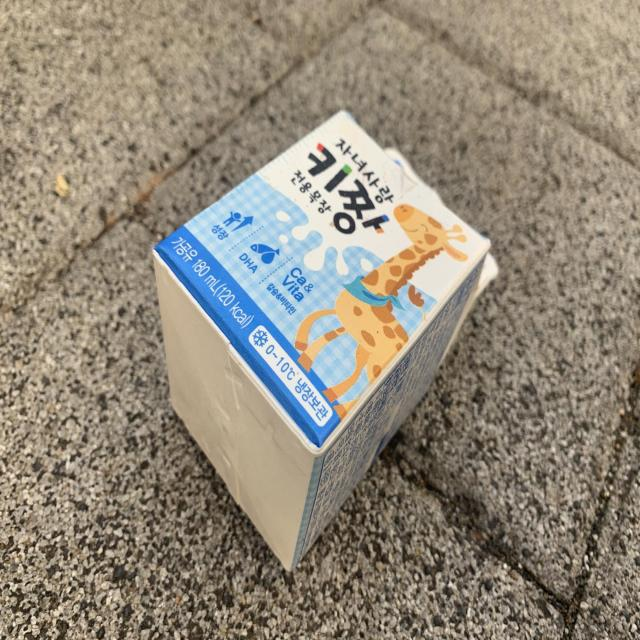paperpack: (153, 110, 498, 571)
